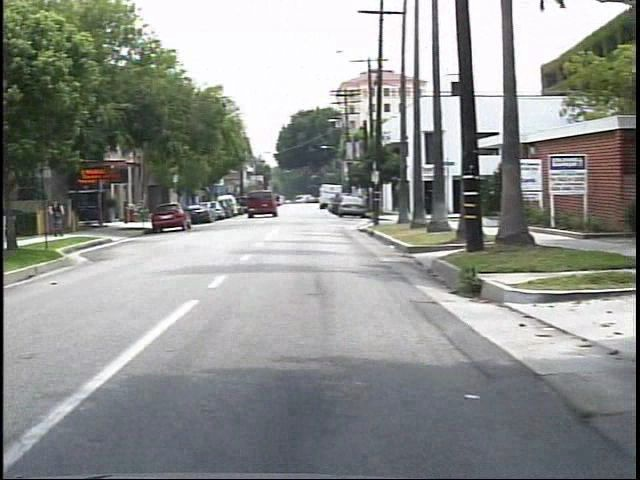person: (35, 192, 64, 239)
